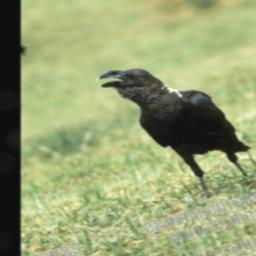Crow: (88, 40, 256, 217)
